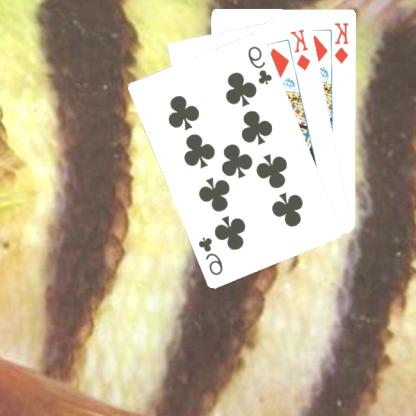9C: (246, 42, 276, 86), (197, 233, 227, 276)
KD: (290, 26, 314, 72), (333, 19, 352, 65)
